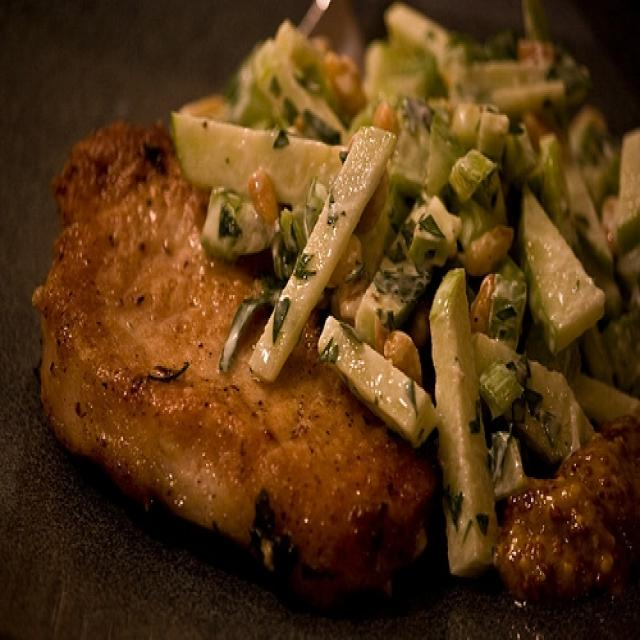猪肉菜式: (29, 15, 630, 596)
